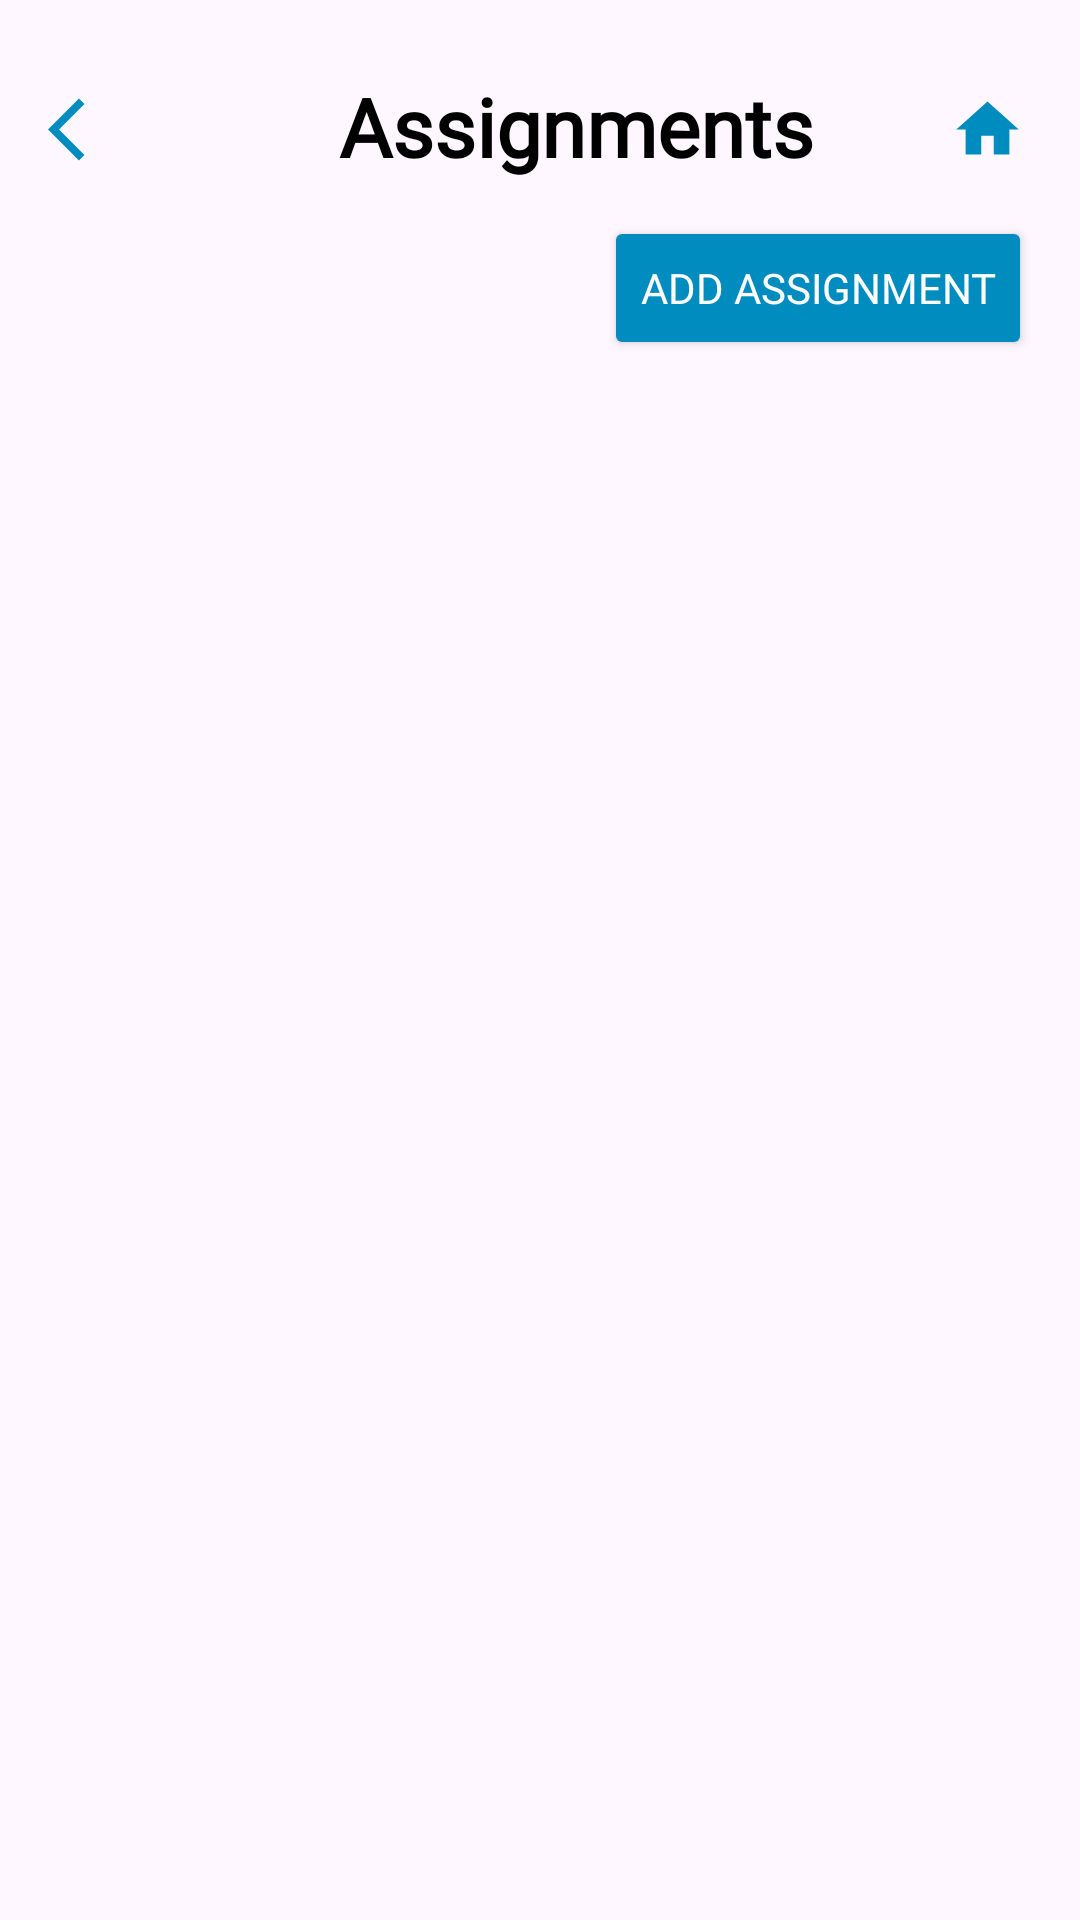

Where to tap for icons on this 1080w x 1920h app screen, as [x,y]:
backarrow: [66,129]
home: [987,128]
